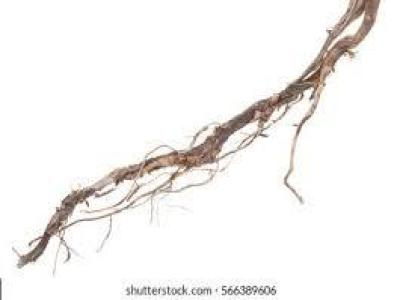Root: (18, 0, 379, 265)
